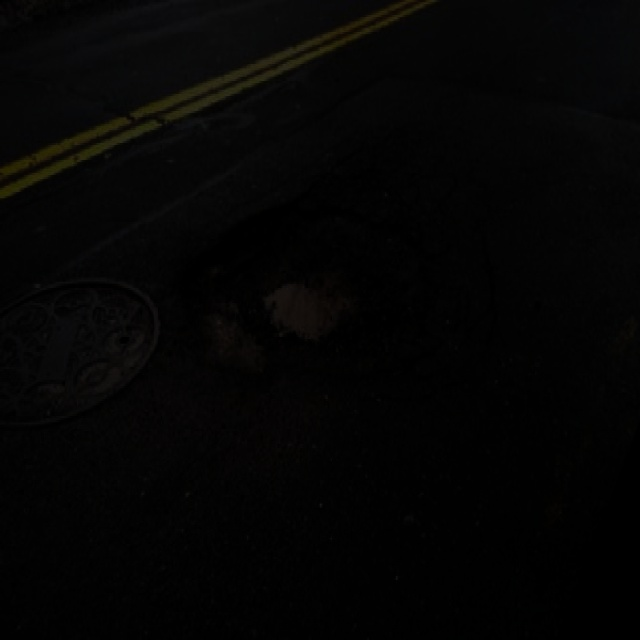Pothole: (182, 194, 438, 378)
